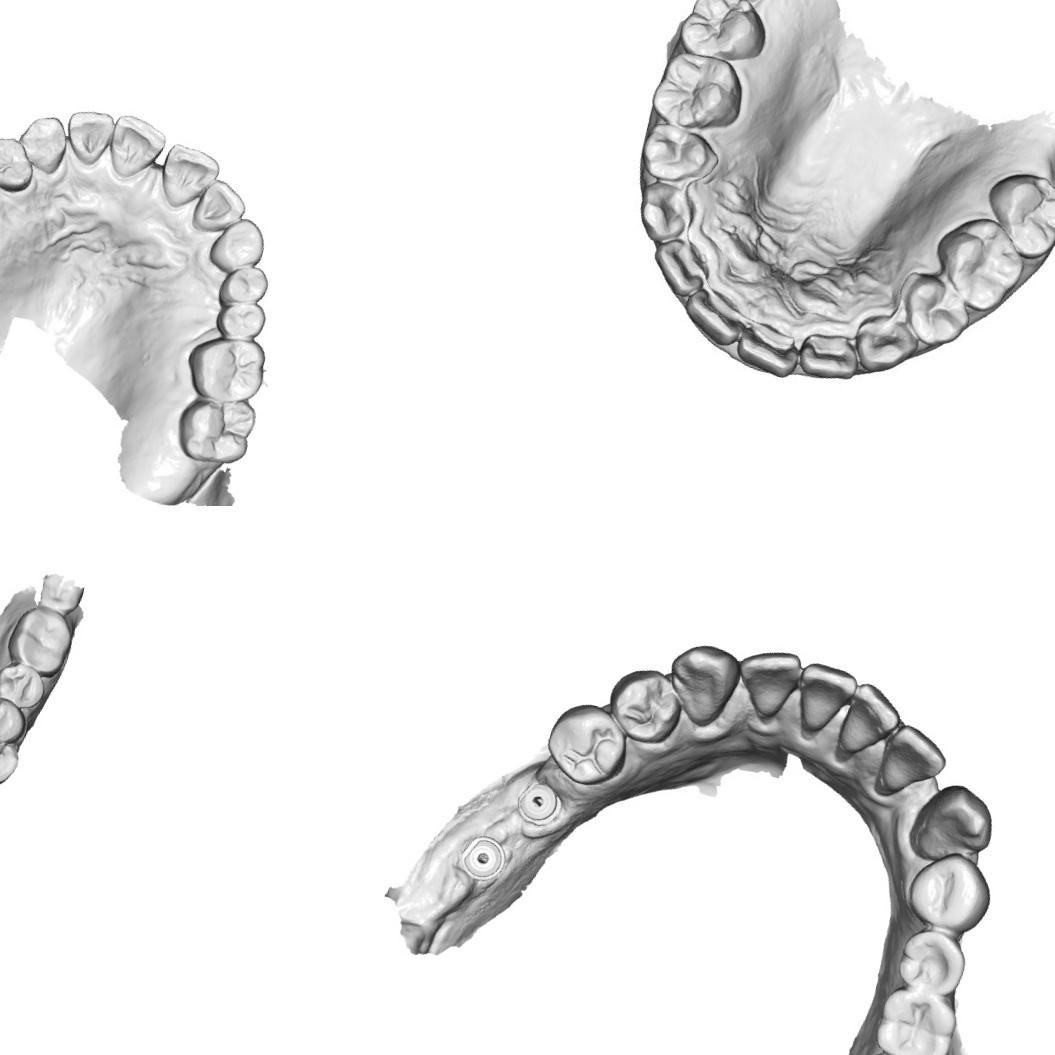canine: (905, 775, 1002, 871), (658, 634, 746, 734), (848, 306, 924, 382), (626, 173, 700, 251), (10, 108, 73, 179), (205, 210, 271, 277), (0, 733, 22, 787)
implant: (454, 830, 514, 892), (510, 773, 563, 829)
incisor: (725, 640, 806, 725), (873, 719, 952, 806), (832, 677, 909, 764), (788, 658, 859, 742), (674, 281, 752, 353), (154, 140, 225, 216), (101, 110, 171, 185), (642, 230, 710, 304), (730, 317, 804, 380), (56, 104, 120, 172), (793, 326, 864, 386), (188, 173, 252, 239)
molar: (926, 207, 1034, 318), (646, 43, 754, 140), (974, 162, 1055, 267), (168, 384, 260, 473), (178, 324, 268, 411), (671, 0, 776, 72), (869, 983, 961, 1055), (0, 599, 79, 680), (29, 560, 89, 619)
premolar: (540, 694, 635, 794), (899, 842, 997, 938), (599, 659, 688, 750), (892, 266, 978, 353), (634, 114, 722, 194), (892, 923, 971, 1001), (213, 258, 272, 312), (211, 293, 269, 345), (0, 657, 50, 712), (0, 129, 40, 196), (0, 690, 32, 749)
